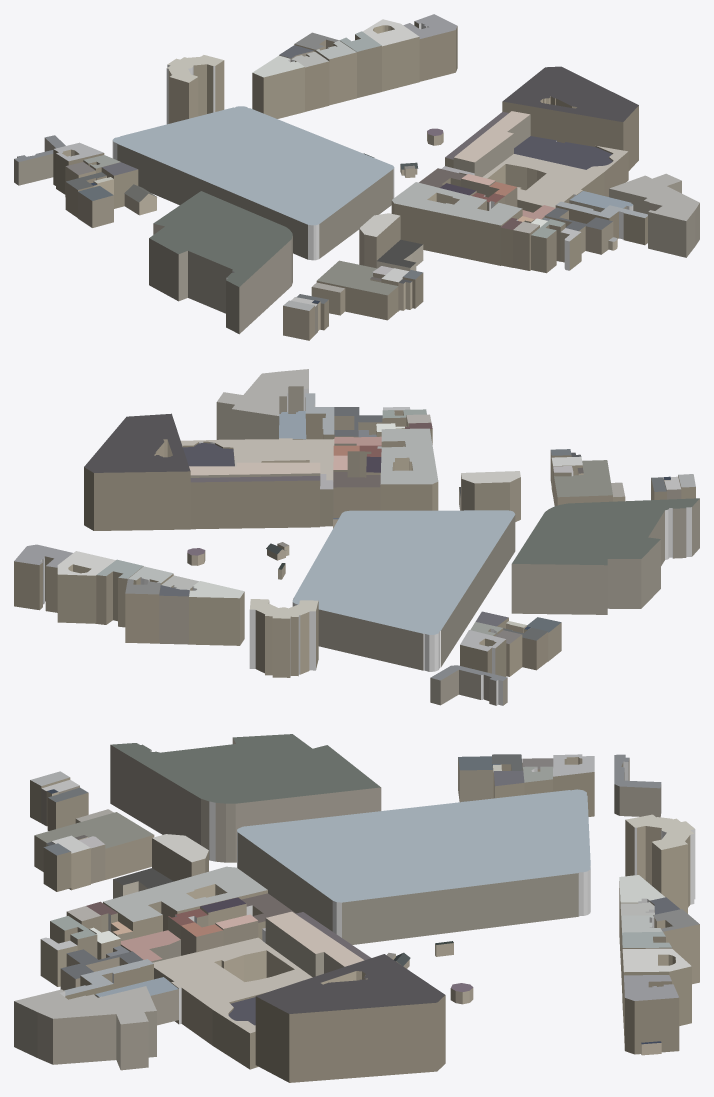
3 views of the same model, one above another, from view 1: azimuth 30°, elevation 25°; view 2: azimuth 150°, elevation 25°; view 3: azimuth 270°, elevation 25° (orthographic). The views are drawn at different scales.
Visible parts, largest first — view 1: tuile; view 2: tuile; view 3: tuile.
Boxes of the visible parts, box(x1,y1,x2,y2) form: tuile: box(14, 14, 699, 340); tuile: box(14, 369, 699, 705); tuile: box(14, 734, 699, 1082).
Bounding box in the file's own units: 281 × 34.46 × 272.
